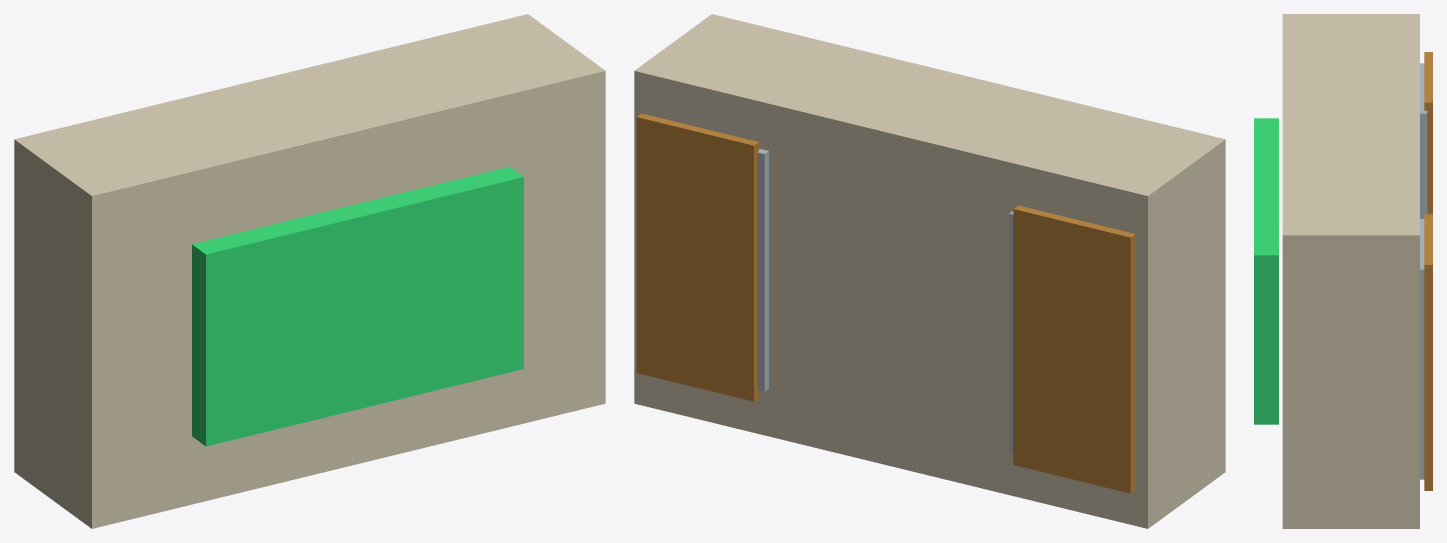
The model's file is 071_L102_LED4.fbx.
3 renders of one model, left to right at view 1: azimuth 30°, elevation 25°; view 2: azimuth 150°, elevation 25°; view 3: azimuth 270°, elevation 25°, orthographic. The views are drawn at different scales.
Parts seen in each view (by area): view 1: LED4; view 2: LED4; view 3: LED4.
Part boxes in pixels (x1=…): LED4: x1=14, y1=14, x2=605, y2=528; LED4: x1=634, y1=14, x2=1225, y2=528; LED4: x1=1254, y1=14, x2=1432, y2=528.
Bounding box in the file's own units: 0.0021 × 0.0013 × 0.000717.
